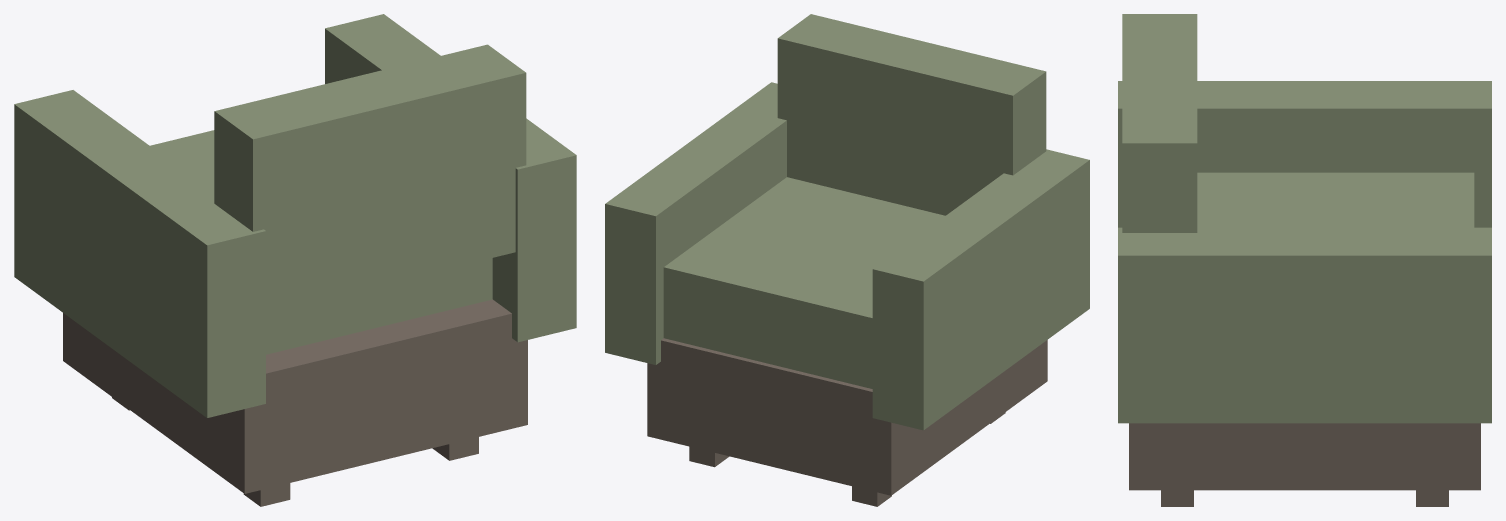
The model's file is armchair_apartment.glb.
3 renders of one model, left to right at view 1: azimuth 30°, elevation 25°; view 2: azimuth 150°, elevation 25°; view 3: azimuth 270°, elevation 25°, orthographic. The views are drawn at different scales.
Visible parts, largest first — view 1: body; view 2: body; view 3: body.
Part boxes in pixels (box(x1,y1,x2,y2)): body: box(14, 14, 576, 506); body: box(605, 14, 1089, 506); body: box(1118, 14, 1491, 506).
Bounding box in the file's own units: 0.94 × 0.945 × 0.85.
